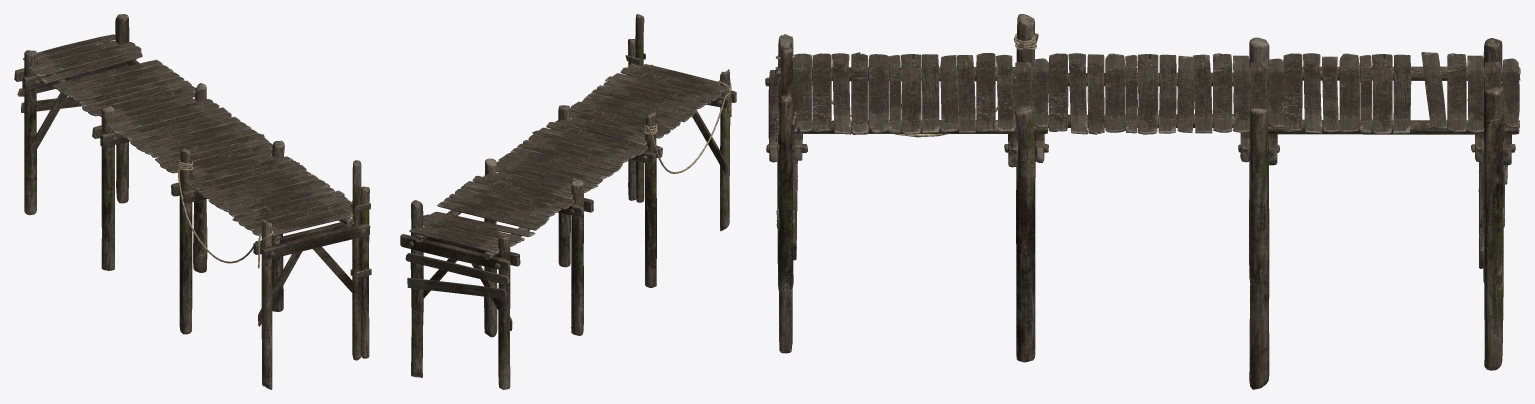
The picture shows the model from 3 angles, left to right: view 1: azimuth 30°, elevation 25°; view 2: azimuth 150°, elevation 25°; view 3: azimuth 270°, elevation 25°; orthographic projection. The views are drawn at different scales.
Visible parts, largest first — view 1: modular_wooden_pier_lod0; view 2: modular_wooden_pier_lod0; view 3: modular_wooden_pier_lod0.
Part boxes in pixels (x1=…): modular_wooden_pier_lod0: x1=14, y1=14, x2=371, y2=389; modular_wooden_pier_lod0: x1=400, y1=14, x2=736, y2=389; modular_wooden_pier_lod0: x1=765, y1=14, x2=1520, y2=389.
Bounding box in the file's own units: 2.54 × 4.63 × 9.36.
2 materials, 2 textured.
